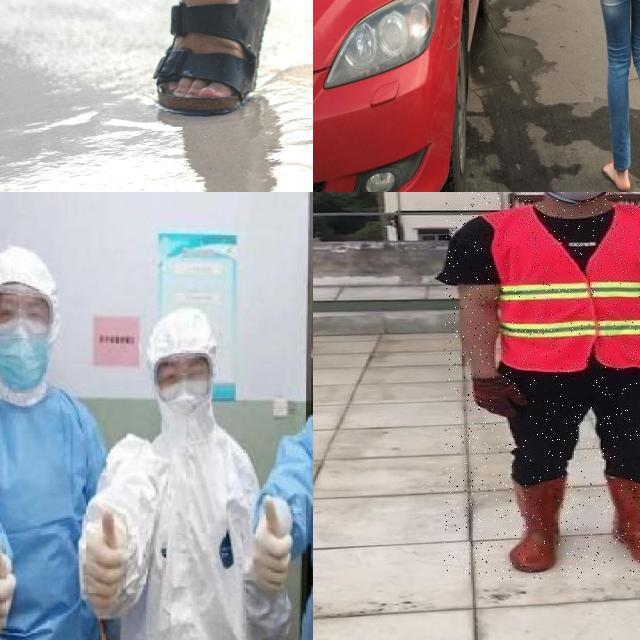Barefoots: (602, 159, 630, 192)
boots: (504, 478, 564, 571), (602, 472, 640, 567)
face_mask: (151, 352, 217, 437), (0, 321, 55, 390)
glasses: (155, 352, 217, 403), (0, 287, 61, 338)
hand_glove: (82, 509, 128, 610), (253, 494, 291, 590), (0, 533, 14, 640)
head_nohelmet: (0, 246, 63, 320), (145, 303, 220, 364)
person: (444, 192, 640, 579), (70, 290, 281, 640), (0, 238, 126, 640)
vest: (481, 210, 640, 371)
